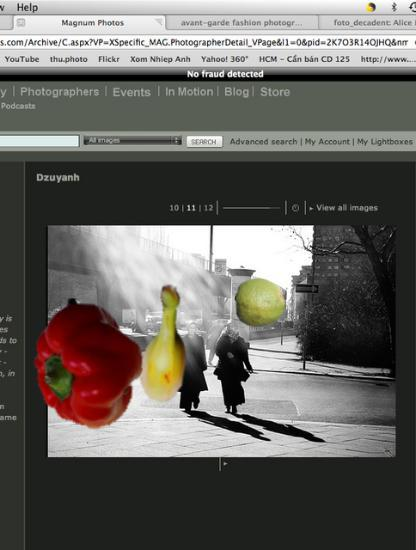Banana: (106, 283, 228, 405)
Limes: (234, 277, 287, 330)
Pepper: (25, 300, 154, 429)
